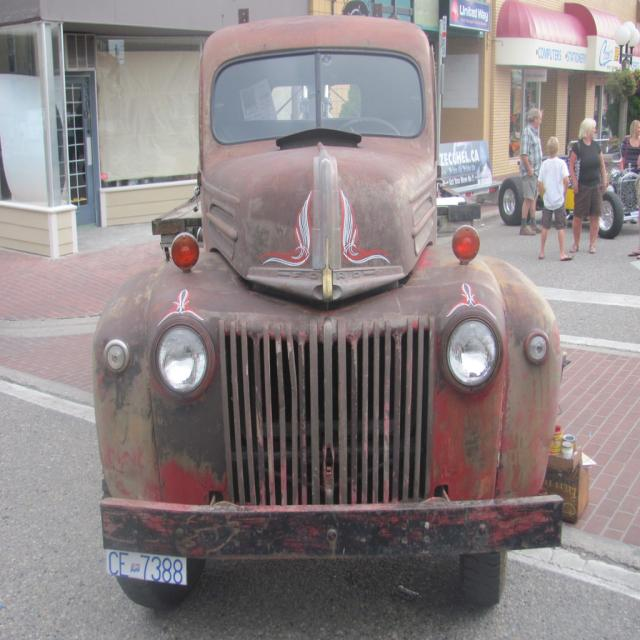car: (70, 21, 577, 625)
